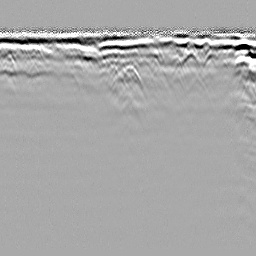cavity: (109, 60, 145, 90)
